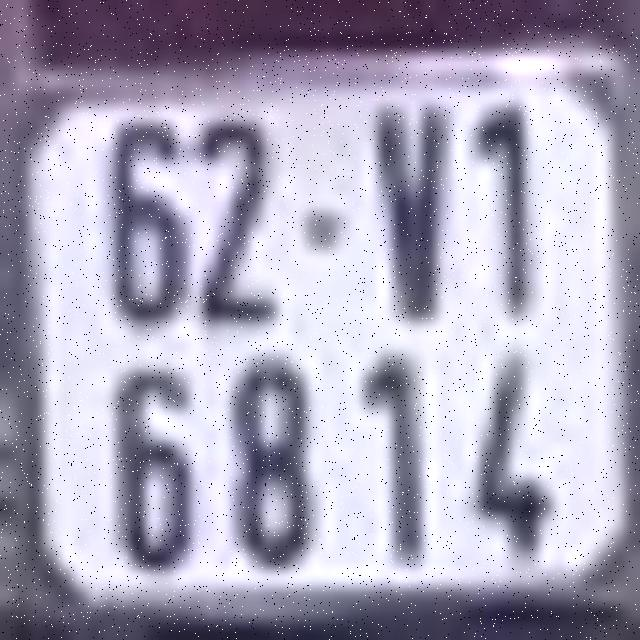1: (360, 351, 430, 562), (472, 100, 537, 319)
2: (197, 115, 280, 326)
4: (472, 349, 555, 562)
6: (115, 367, 194, 571), (112, 118, 188, 323)
8: (232, 353, 312, 569)
V: (372, 97, 457, 324)
